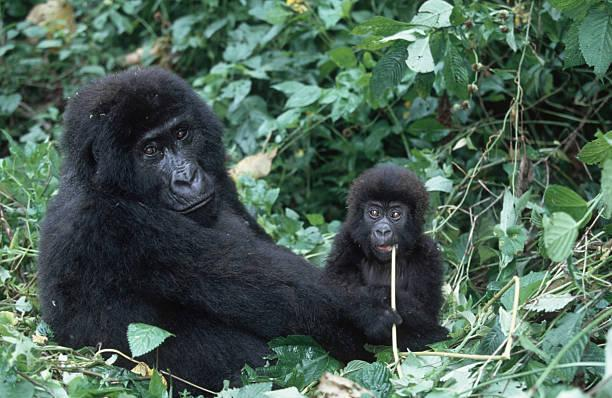goriile_montagne: (31, 45, 334, 364), (318, 151, 448, 356)
